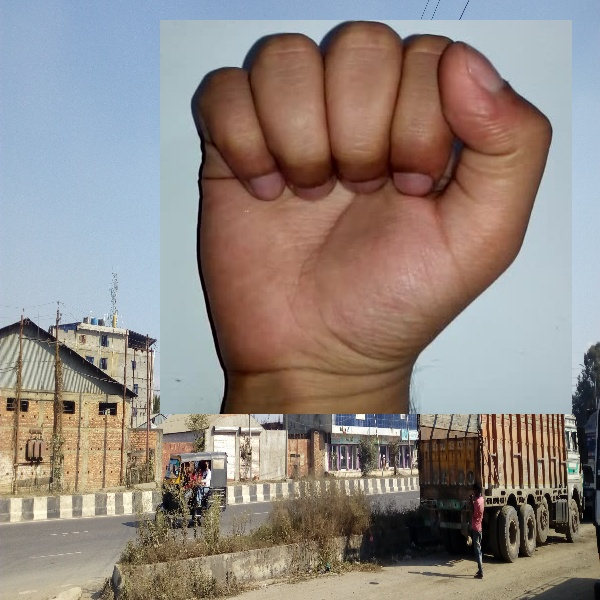A: (160, 20, 572, 414)
